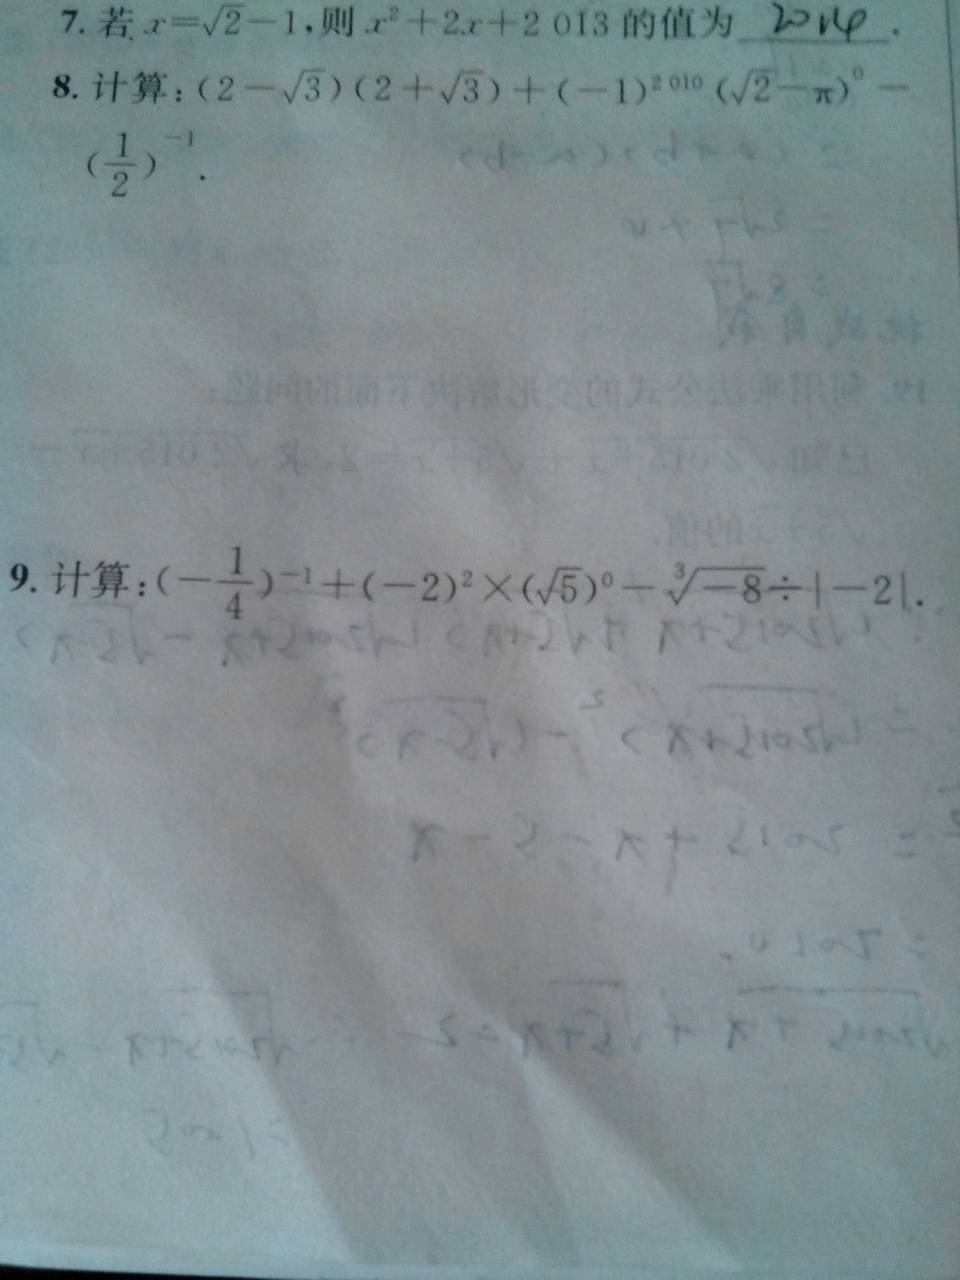division: (216, 577, 255, 593), (101, 156, 139, 170)
sqrt: (532, 564, 583, 609), (283, 62, 329, 110), (436, 66, 487, 105), (196, 4, 254, 38), (737, 62, 773, 106)
